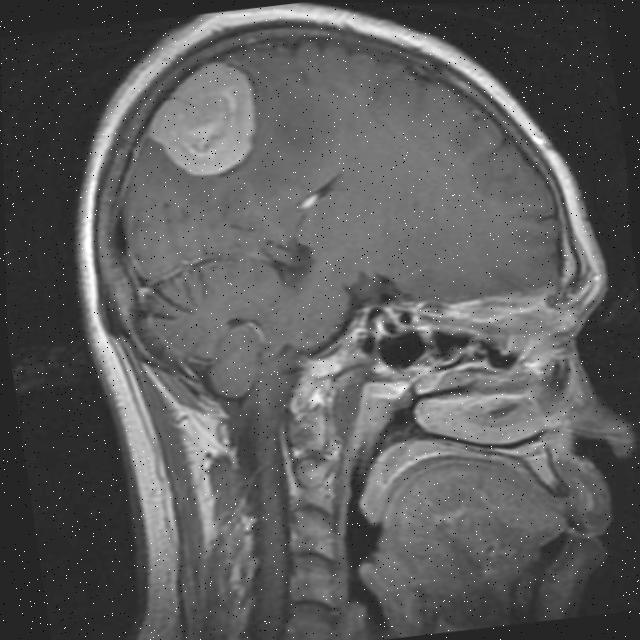Meningioma: (139, 56, 266, 184)
